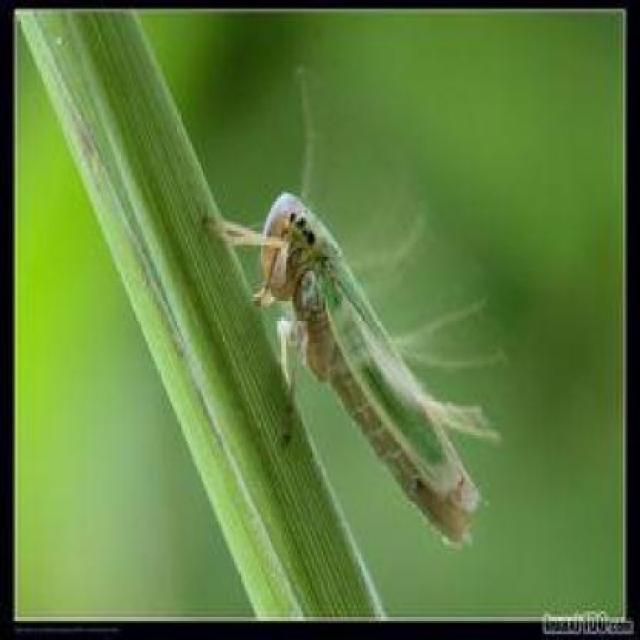green-leafhopper: (200, 190, 483, 551)
